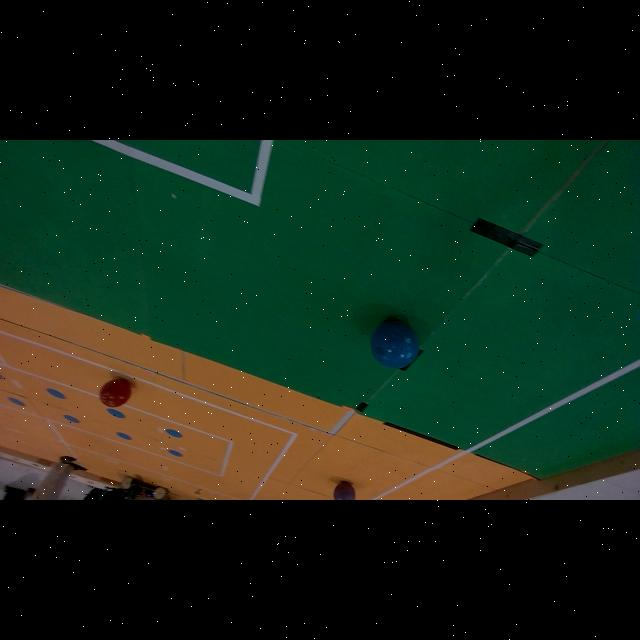B: (372, 320, 419, 368)
R: (99, 379, 131, 408)
